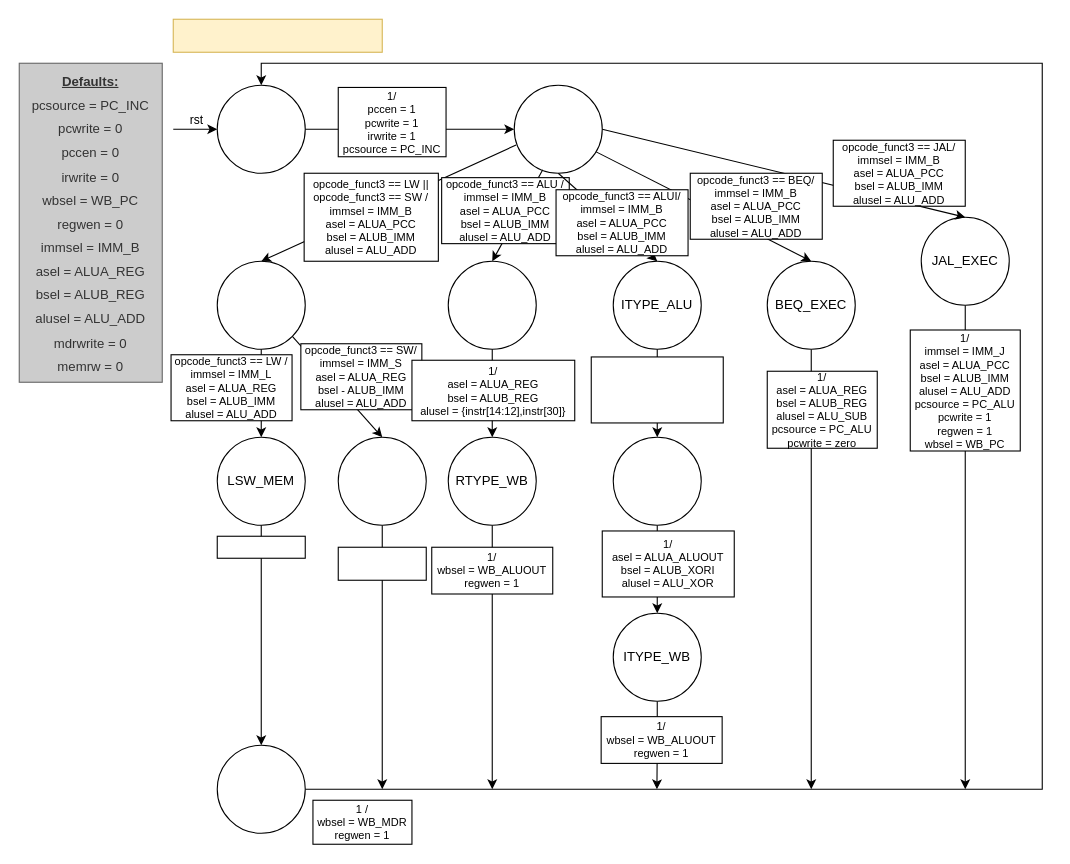
This 1070x864 diagram has some shape labels left out. Here are the shapes that lost their labels. From the top down, the centre of each, then its label:
At [277,35]: "opcode_funct3 = {instr[6:0], instr[14:12]}".
At [260,128]: "FETCH".
At [557,128]: "DECODE".
At [260,304]: "LSW_ADDR".
At [491,304]: "RTYPE_ALU".
At [656,389]: "1/ immsel = IMM_I asel = ALUA_REG bsel = ALUB_IMM alusel = ALU_ADD".
At [381,480]: "SW_MEM".
At [656,480]: "ITYPE_ALU2".
At [260,546]: "1 / mdrwrite = 1".
At [381,563]: "1 / memrw = 1".
At [260,788]: "LW_WB".
